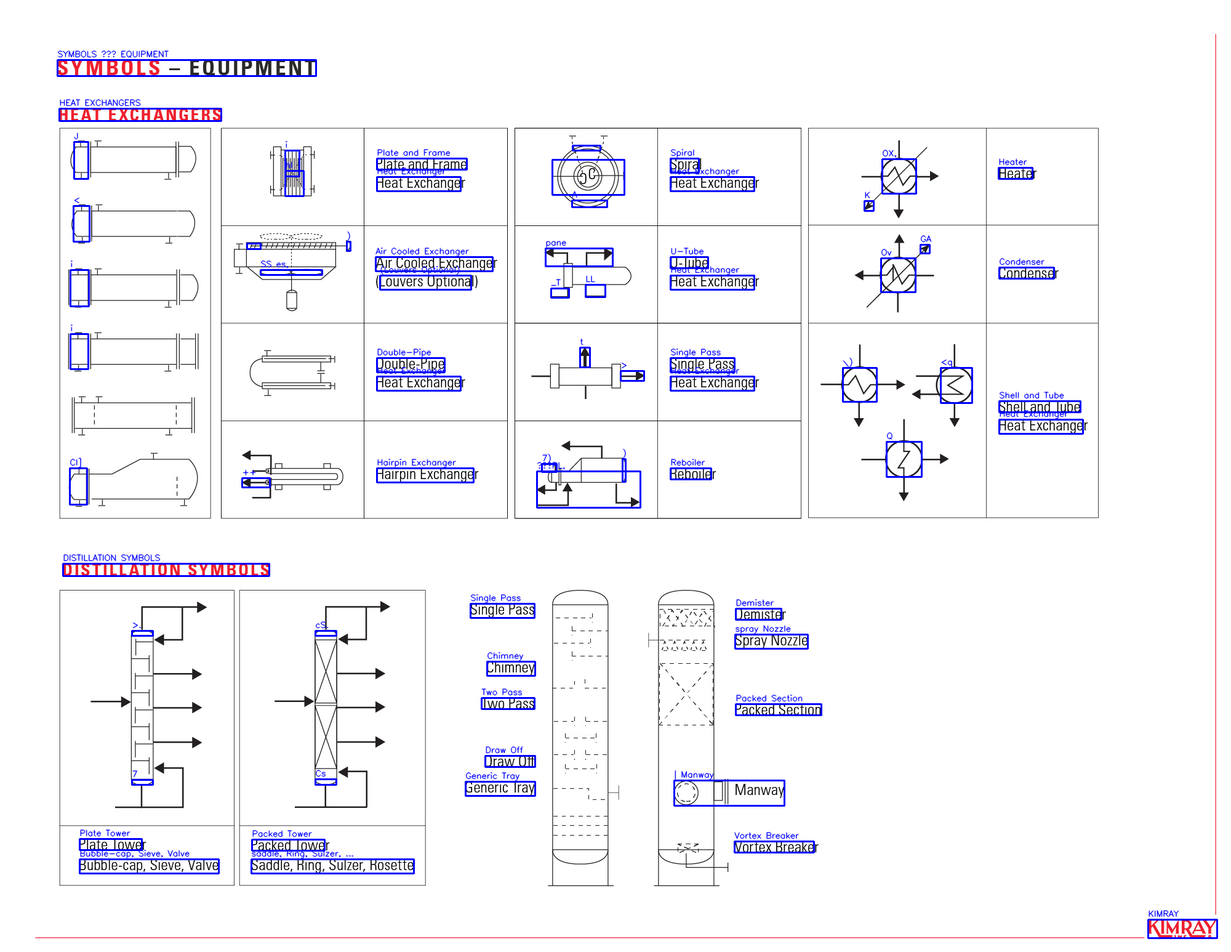TrocadordeCalor: (645, 585, 732, 890), (543, 587, 622, 890), (232, 229, 354, 315), (857, 417, 953, 503), (66, 450, 200, 510), (535, 439, 643, 511), (819, 341, 907, 429), (852, 232, 939, 315), (854, 137, 942, 219), (528, 346, 648, 403), (66, 261, 201, 310), (65, 328, 201, 374), (124, 623, 161, 789), (548, 132, 628, 207), (69, 137, 201, 182), (69, 393, 199, 438), (541, 241, 635, 301), (910, 341, 974, 429), (239, 449, 347, 501), (68, 203, 197, 246), (309, 626, 342, 790), (246, 346, 339, 399), (267, 143, 319, 198)
